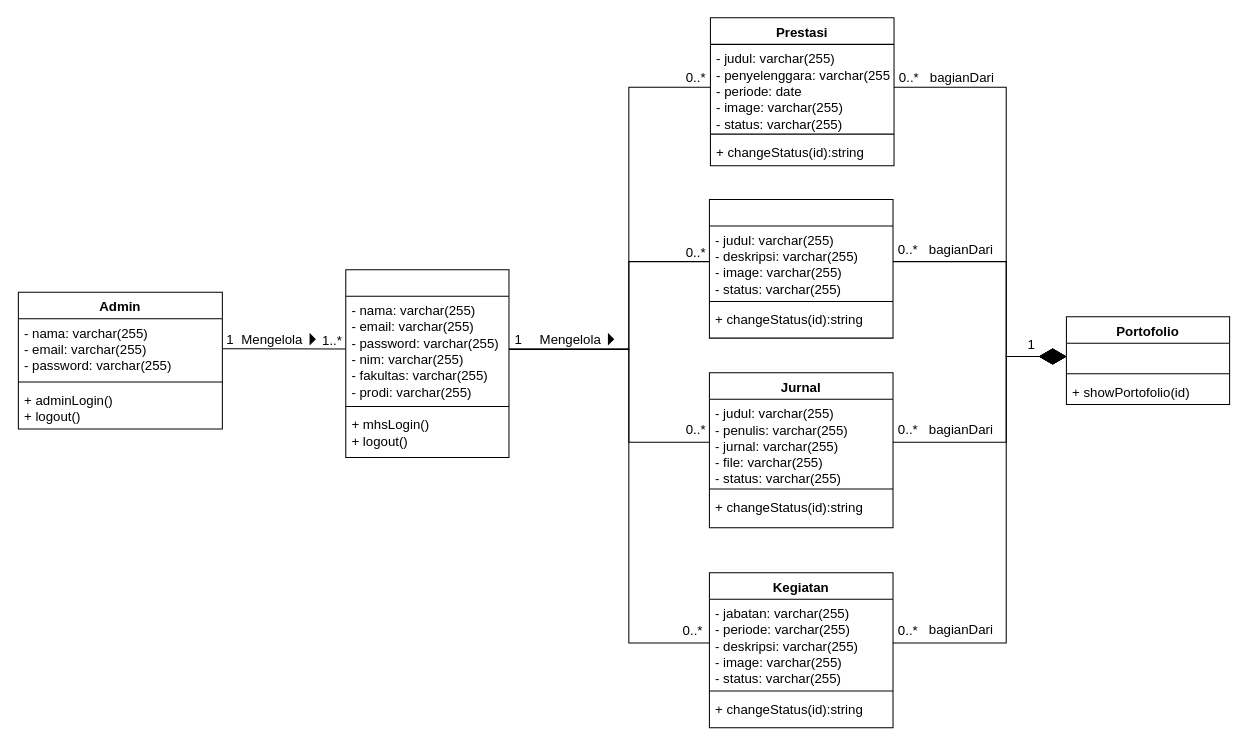
Some shapes in this 1247 by 749 pixel diagram are drawn without their labels. The box of each missing label's shape, as (x1, y1, x2, y2) in pixels:
Mahasiswa: (345, 269, 509, 457)
Project: (708, 198, 893, 338)
